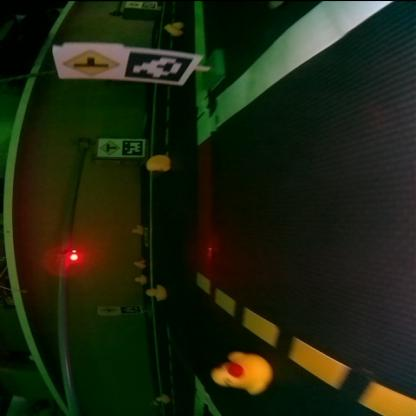Duckie: (210, 352, 272, 392), (145, 155, 170, 171), (146, 286, 164, 300), (164, 22, 182, 36), (155, 394, 169, 402), (132, 225, 142, 233), (133, 260, 143, 268), (136, 275, 145, 281)
Intersection sign: (56, 48, 122, 76), (98, 139, 120, 155), (97, 306, 117, 314)
QR code: (124, 52, 195, 80), (120, 140, 142, 156), (119, 306, 140, 314)
Traffic light: (60, 249, 79, 262)
